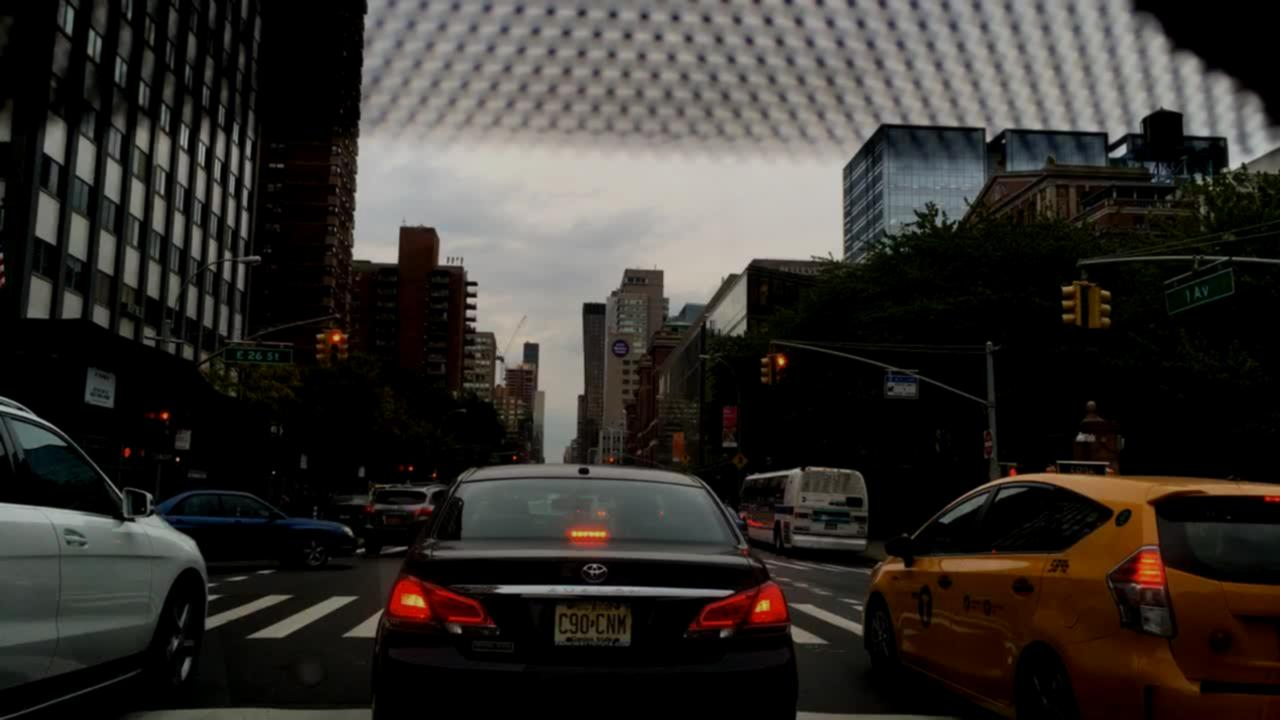Toyota: (574, 555, 623, 592)
